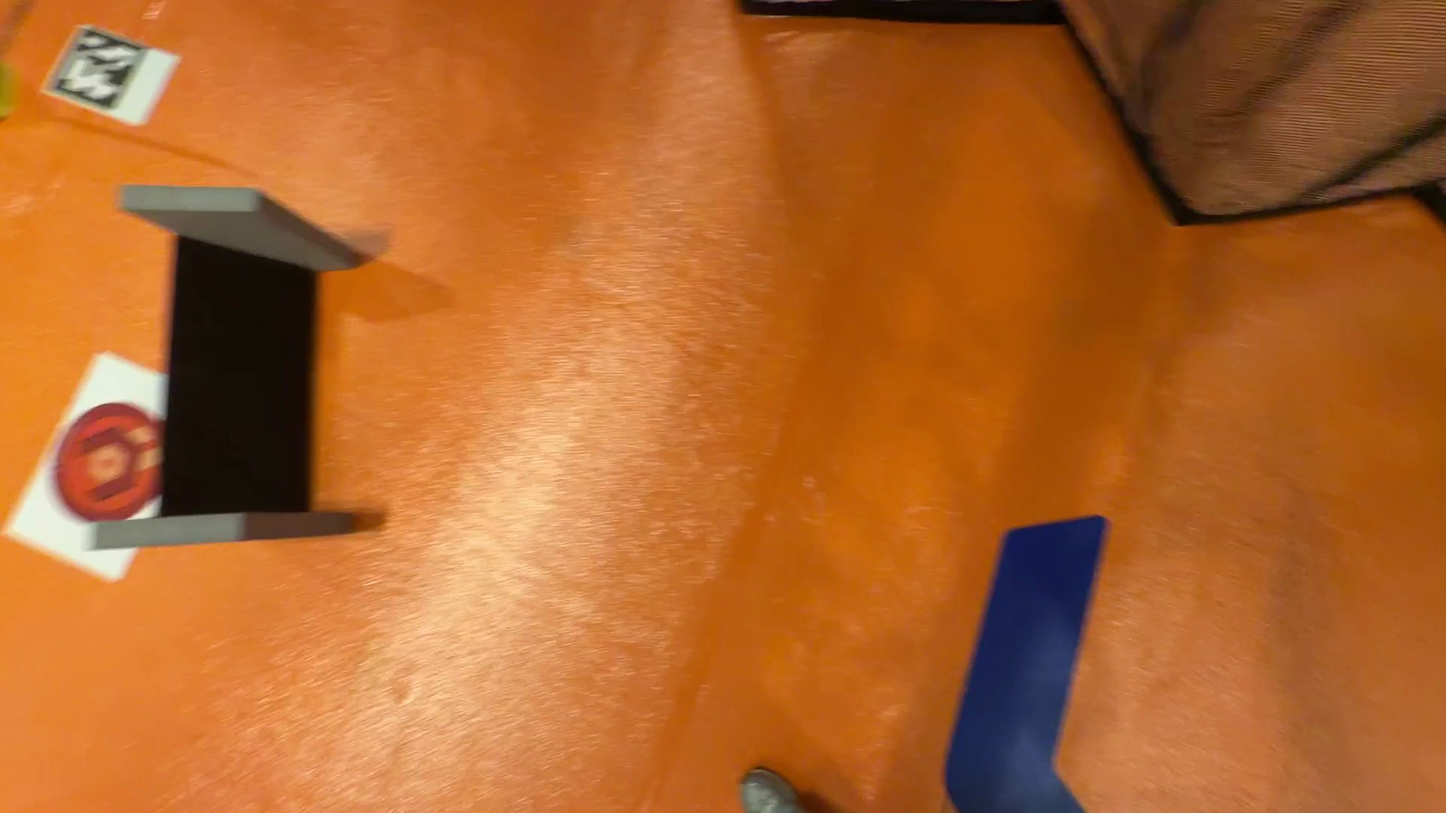landing_pad: (51, 405, 167, 522)
